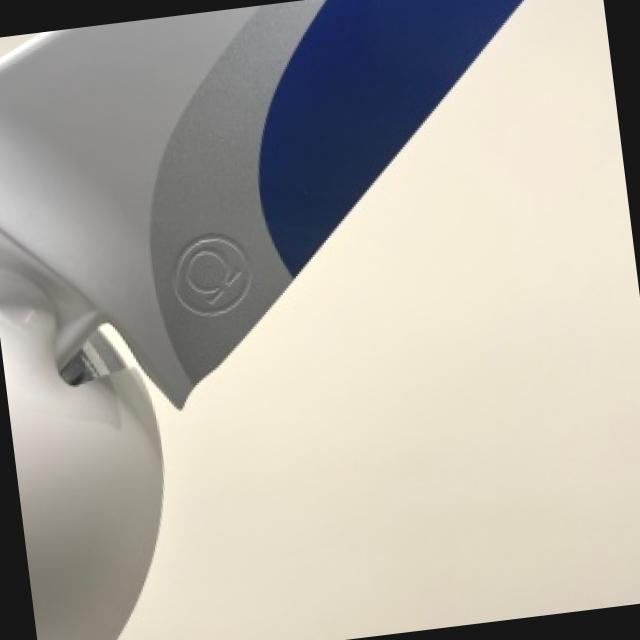healthy: (0, 0, 519, 640)
